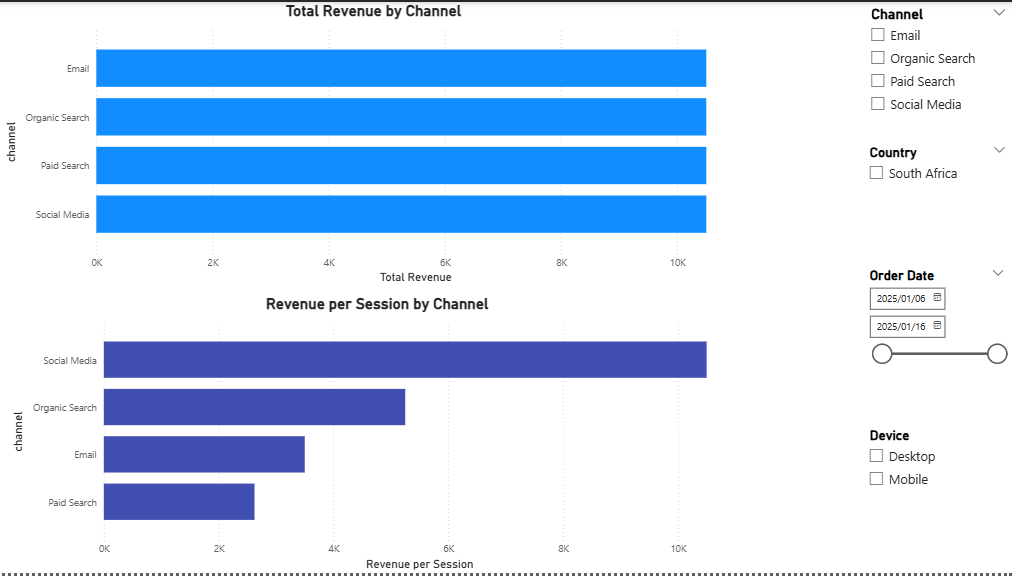

The page's visual inventory and layout, read from the dashboard file:
{"tool":"powerbi","page":{"name":"Marketing Performance","canvas":[1280,720],"ordinal":2},"visuals":[{"type":"barChart","title":"Total Revenue by Channel","fields":{"Category":["sessions.channel"],"Y":["Measures (2).Total Revenue"]},"box":[0,0,941.1,359.1],"z":0},{"type":"barChart","title":"Revenue per Session by Channel","fields":{"Category":["sessions.channel"],"Y":["Measures (2).Revenue per Session"]},"box":[9.4,368.5,931.7,351.5],"z":1000},{"type":"slicer","fields":{"Values":["sessions.device"]},"box":[1082.8,531,194.6,155],"z":1001},{"type":"slicer","fields":{"Values":["orders.order_date"]},"box":[1082.8,328.8,194.6,155],"z":1002},{"type":"slicer","fields":{"Values":["users.country"]},"box":[1082.8,173.9,196.5,155],"z":1003},{"type":"slicer","fields":{"Values":["sessions.channel"]},"box":[1084.7,0,194.6,155],"z":1004}]}

Visuals, with their boxes in screenshot pixels (x1, y1, x2, y2), scaled from the page's 1280x720 canvas onto the 1012x576 screenshot:
"Total Revenue by Channel" barChart: {"x1": 0, "y1": 0, "x2": 744, "y2": 287}
"Revenue per Session by Channel" barChart: {"x1": 7, "y1": 295, "x2": 744, "y2": 575}
slicer - sessions.device: {"x1": 856, "y1": 425, "x2": 1010, "y2": 549}
slicer - orders.order_date: {"x1": 856, "y1": 263, "x2": 1010, "y2": 387}
slicer - users.country: {"x1": 856, "y1": 139, "x2": 1011, "y2": 263}
slicer - sessions.channel: {"x1": 858, "y1": 0, "x2": 1011, "y2": 124}
